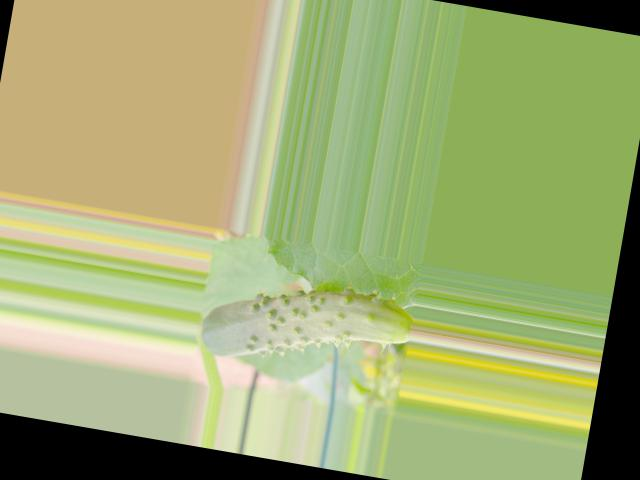cucumber: (196, 264, 415, 386)
